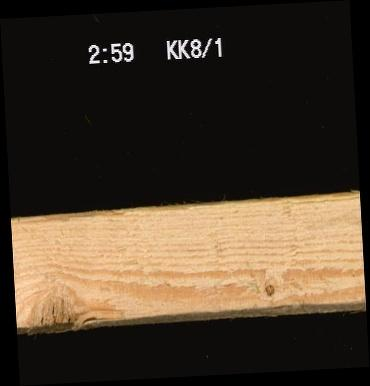dry_knot: (262, 281, 275, 296)
edge_knot: (23, 281, 97, 330)
